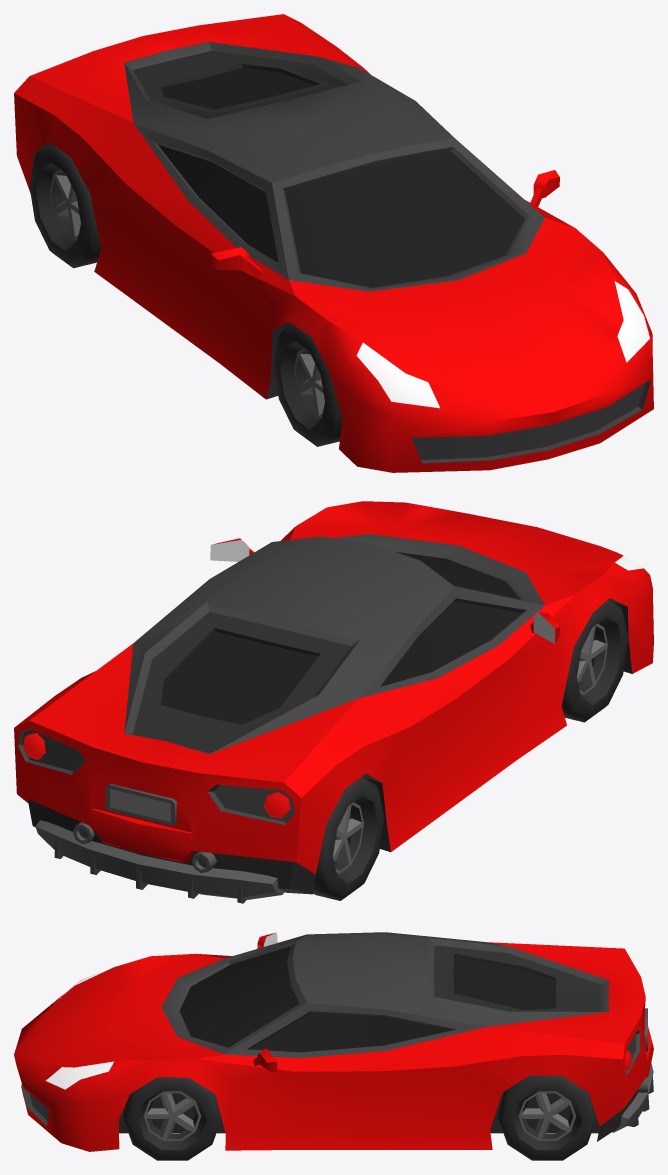
The model's file is italia.glb.
3 views of the same model, one above another, from view 1: azimuth 30°, elevation 25°; view 2: azimuth 150°, elevation 25°; view 3: azimuth 270°, elevation 25° (orthographic). The views are drawn at different scales.
Parts seen in each view (by area): view 1: italia, wheels.022, wheels.023; view 2: italia, wheels.022, wheels.023; view 3: italia, wheels.036, wheels.037.
Part boxes in pixels (bbox=[...]): italia: bbox=[14, 14, 653, 472]; wheels.022: bbox=[29, 144, 101, 268]; wheels.023: bbox=[273, 324, 342, 446]; italia: bbox=[14, 501, 653, 903]; wheels.022: bbox=[313, 777, 384, 900]; wheels.023: bbox=[561, 599, 628, 722]; italia: bbox=[14, 932, 653, 1151]; wheels.036: bbox=[498, 1075, 596, 1160]; wheels.037: bbox=[123, 1077, 221, 1160].
Size of the model in its own units: 2.5 by 1.34 by 5.24.
Materials: 4 (4 with a texture image).
